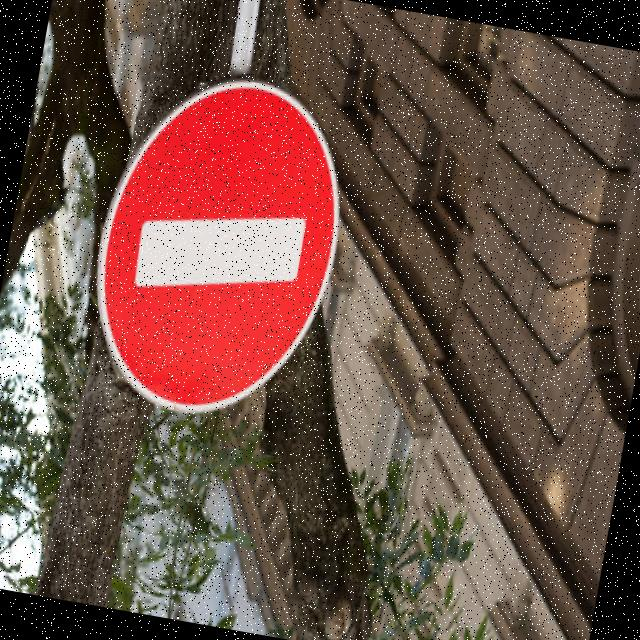do_not_enter: (55, 38, 380, 447)
